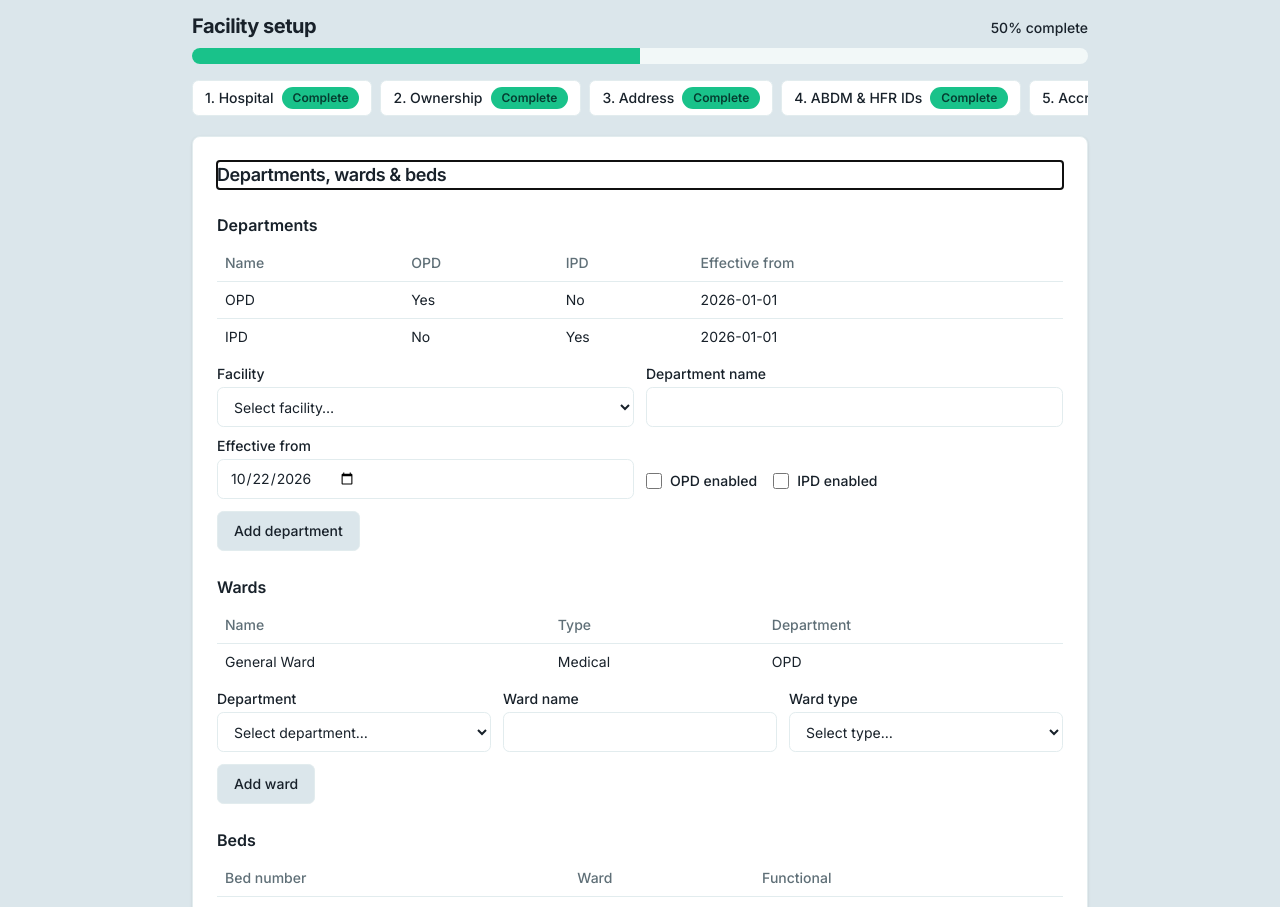
SetupWizard › lists existing departments and creates one through the shared table
expect the heading "Departments, wards & beds" is shown: met, box [217, 164, 446, 185]
expect the 1st cell "OPD" is shown: met, box [217, 282, 403, 318]
Select "Main Campus" in the dropdown labelled "Facility" at (426,407), box [217, 387, 634, 427]
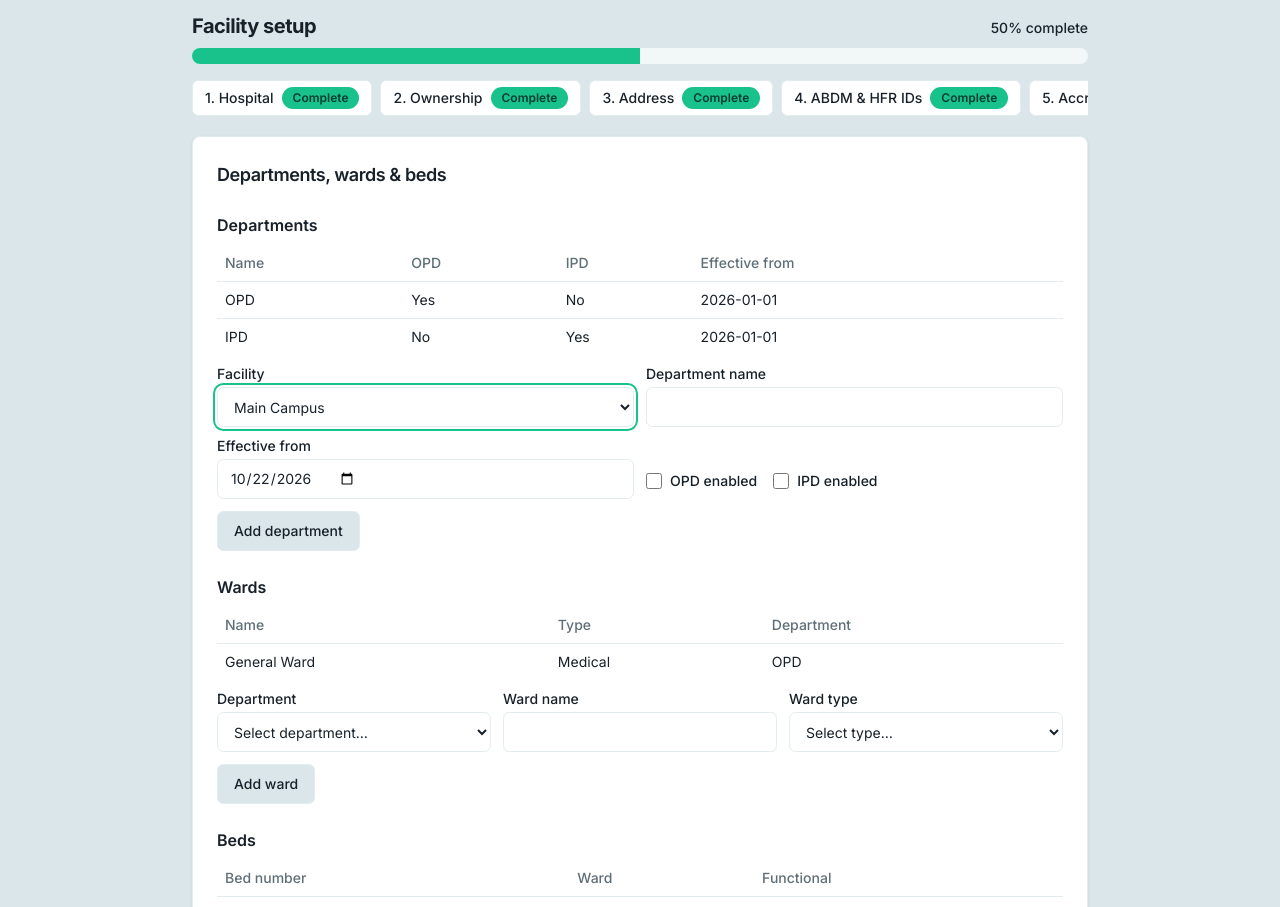
Type "Paediatrics" into the field labelled "Department name" at (854,407), box [646, 387, 1063, 427]
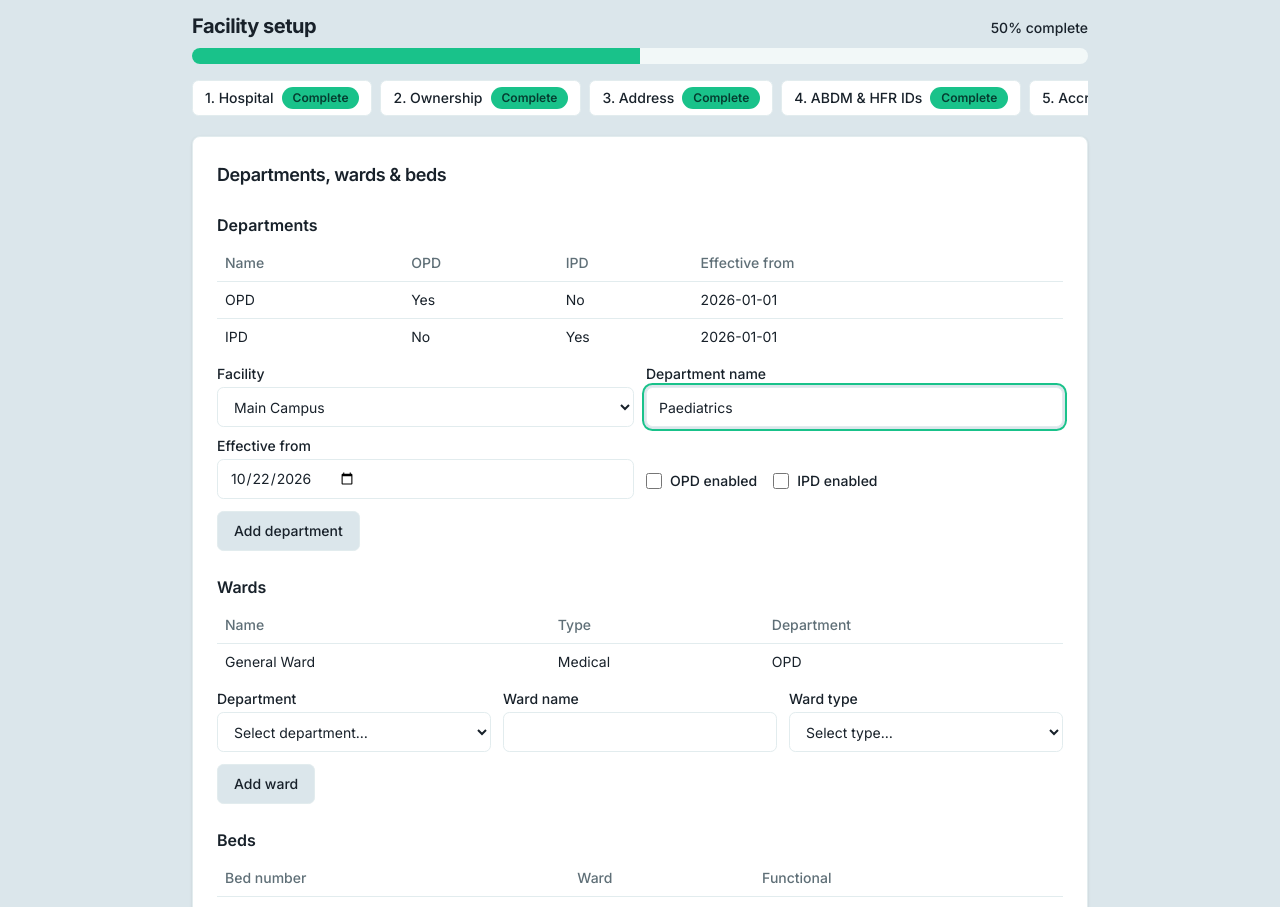
Click the button "Add department" at (288,531), box [217, 511, 360, 551]
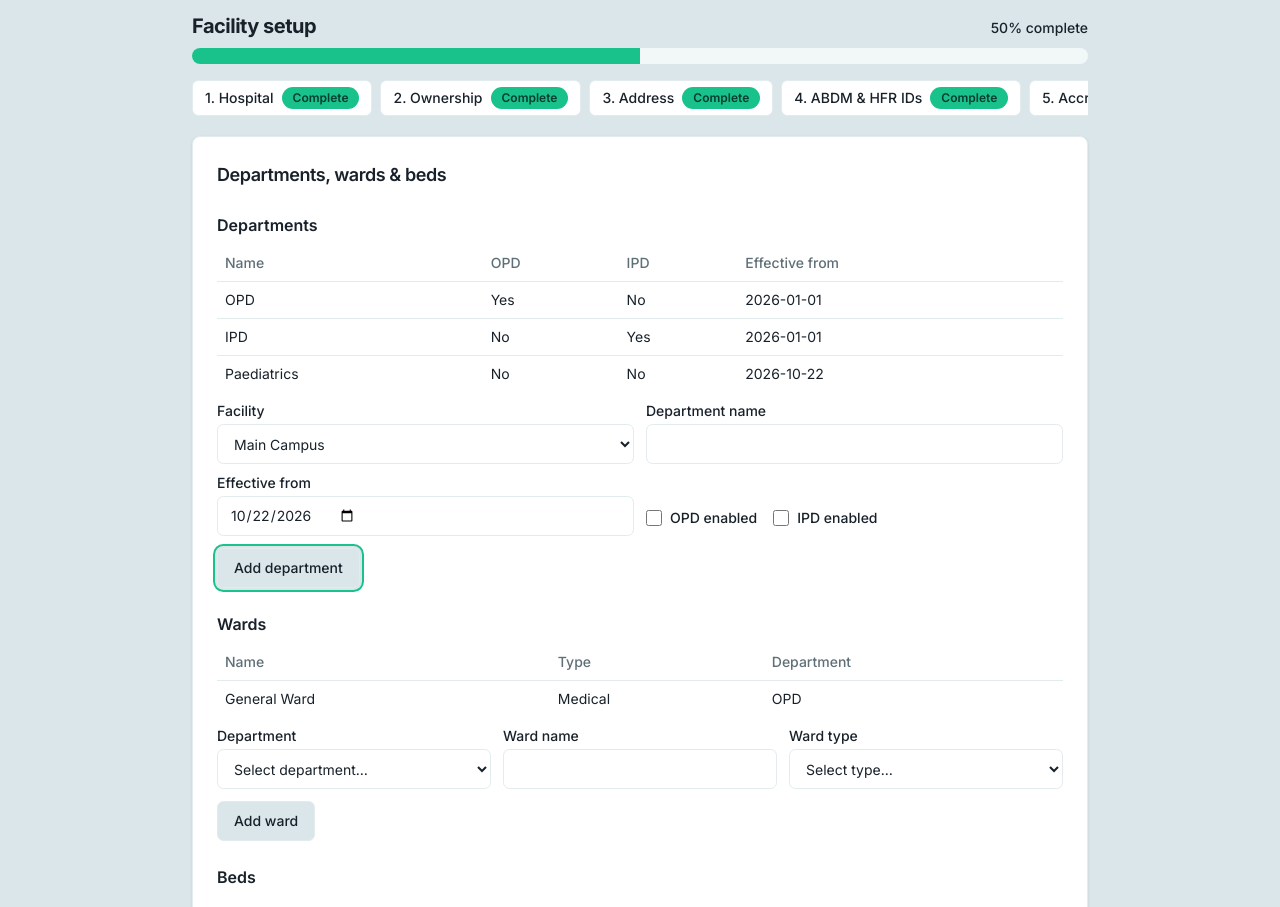
expect the cell "Paediatrics" is shown: met, box [217, 356, 483, 392]
